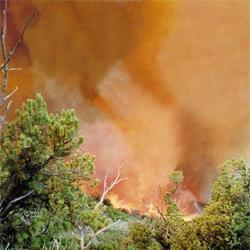smoke: (173, 18, 247, 117), (93, 123, 162, 177)
